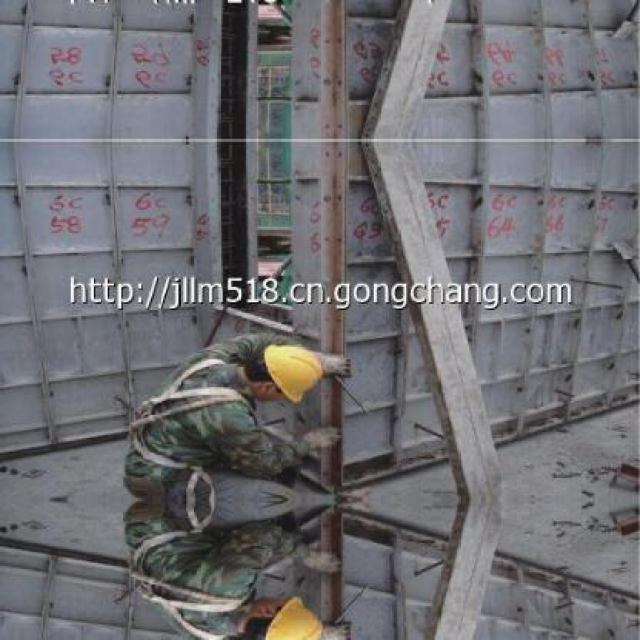hat: (260, 336, 325, 406)
